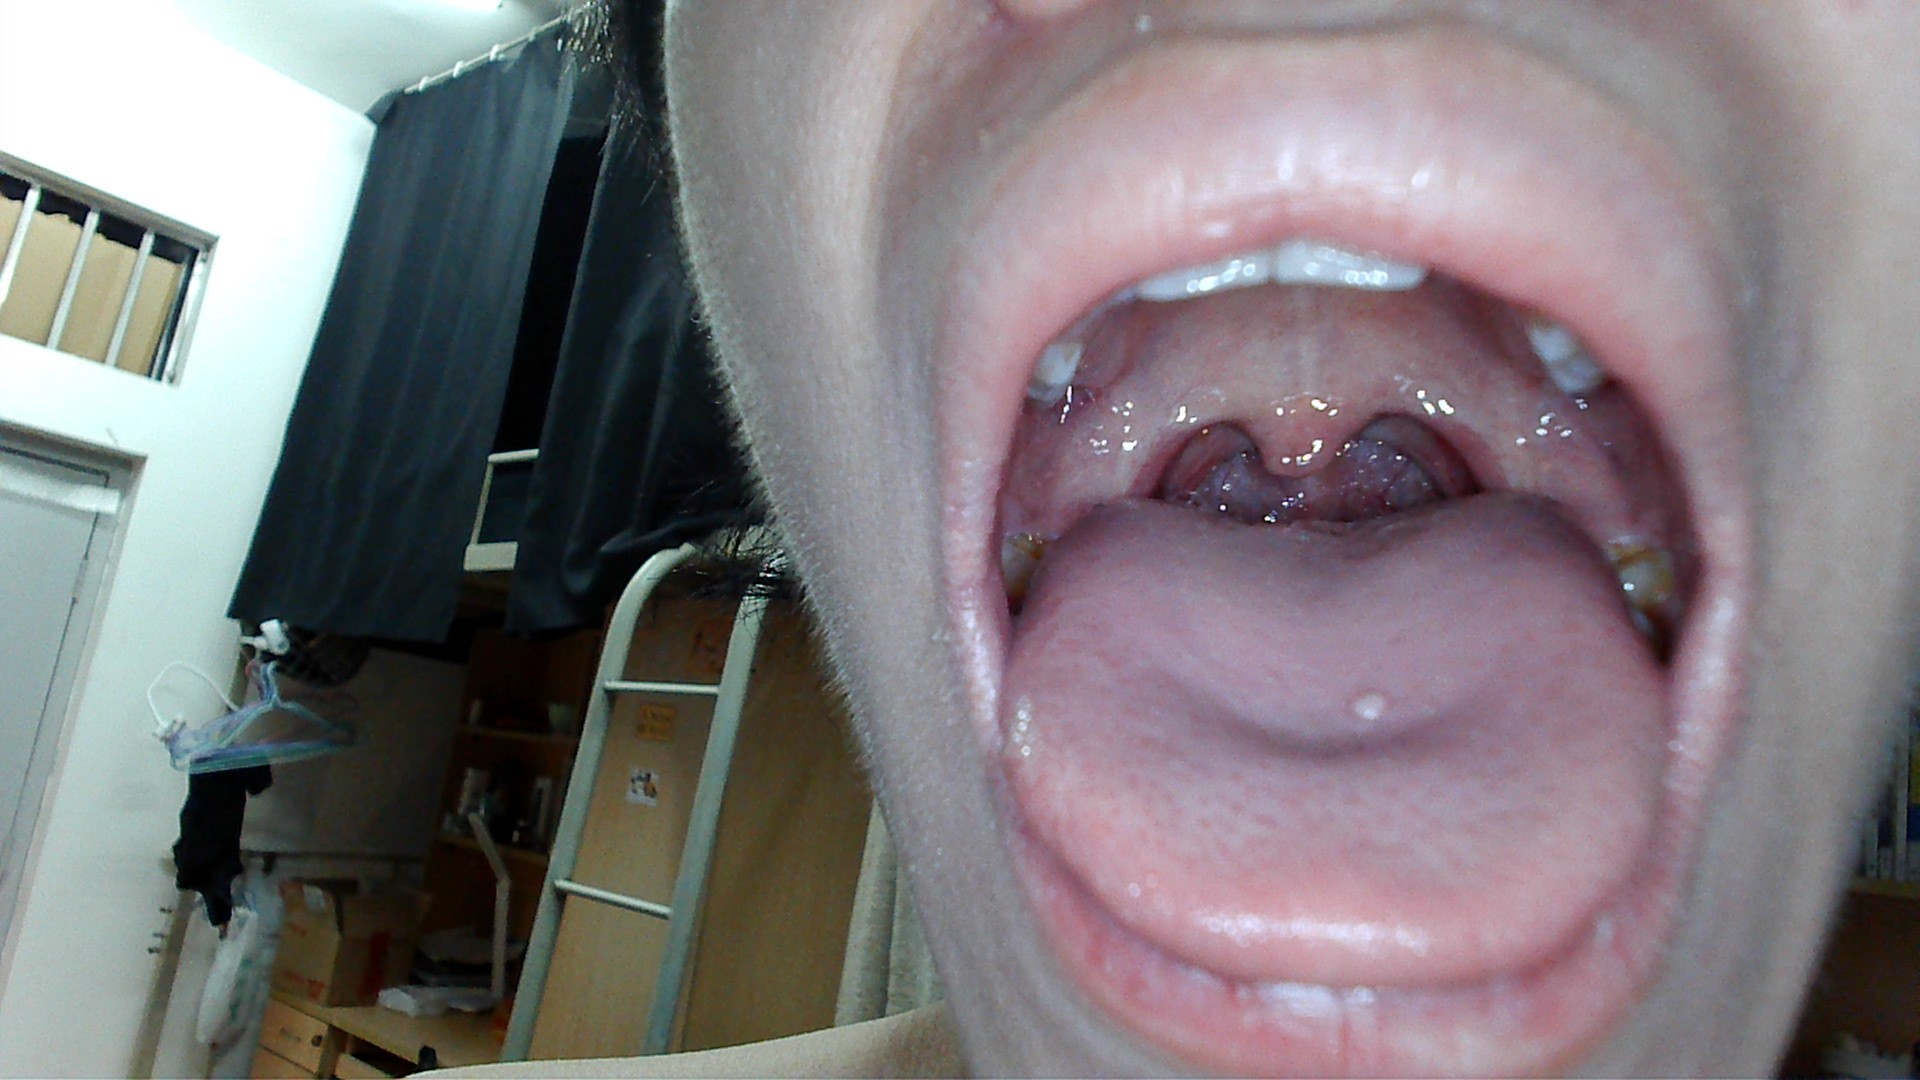throat: (1429, 400, 1506, 496), (1106, 407, 1185, 500)
